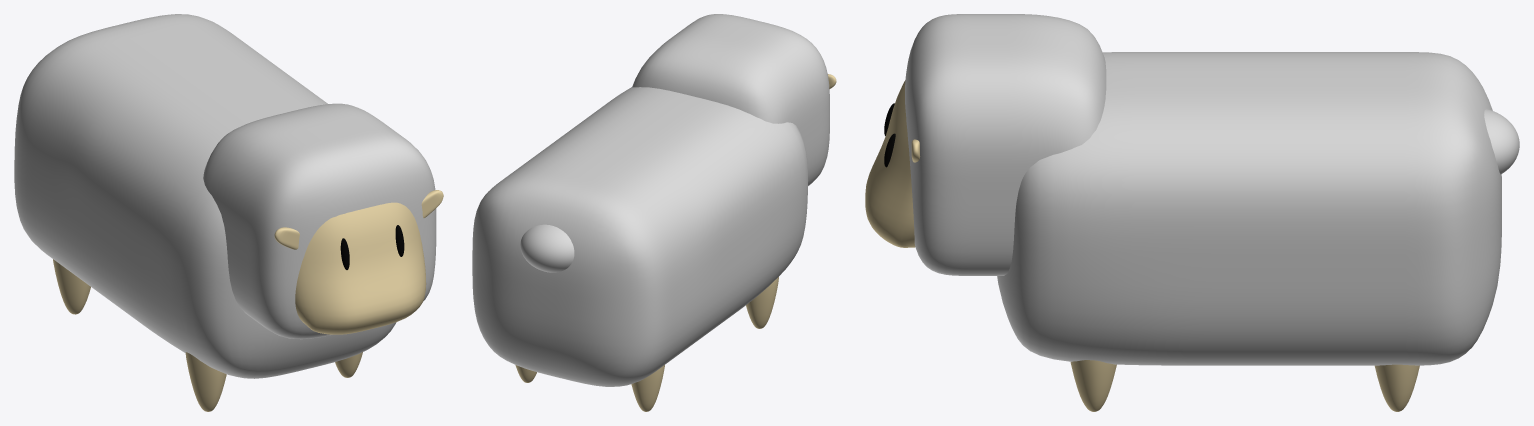
The model's file is husahusa.fbx.
3 renders of one model, left to right at view 1: azimuth 30°, elevation 25°; view 2: azimuth 150°, elevation 25°; view 3: azimuth 270°, elevation 25°, orthographic. The views are drawn at different scales.
Visible parts, largest first — view 1: pCube1, pCube8, pCube7, pCube6, pCube5, polySurface2, pCube2, polySurface1; view 2: pCube1, pCube8, pSphere3, pCube6, pCube5; view 3: pCube1, pCube8, pCube7, pCube2, pCube4, pSphere3.
Boxes of the visible parts, bbox=[...] form: pCube1: bbox=[14, 14, 396, 378]; pCube8: bbox=[203, 103, 436, 339]; pCube7: bbox=[295, 202, 426, 334]; pCube6: bbox=[185, 352, 226, 411]; pCube5: bbox=[53, 259, 90, 314]; polySurface2: bbox=[274, 227, 299, 249]; pCube2: bbox=[335, 352, 362, 377]; polySurface1: bbox=[421, 190, 443, 217]; pCube1: bbox=[472, 87, 808, 386]; pCube8: bbox=[632, 14, 829, 185]; pSphere3: bbox=[520, 224, 574, 272]; pCube6: bbox=[746, 277, 778, 328]; pCube5: bbox=[631, 365, 664, 411]; pCube1: bbox=[997, 52, 1501, 365]; pCube8: bbox=[905, 14, 1106, 275]; pCube7: bbox=[865, 80, 915, 247]; pCube2: bbox=[1070, 360, 1116, 411]; pCube4: bbox=[1374, 364, 1419, 411]; pSphere3: bbox=[1484, 109, 1519, 174].
Size of the model in its own units: 1 by 1.26 by 2.22.
